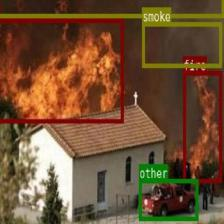fire: (0, 18, 123, 122), (183, 70, 222, 182)
smoke: (0, 0, 224, 18), (141, 22, 222, 67)
